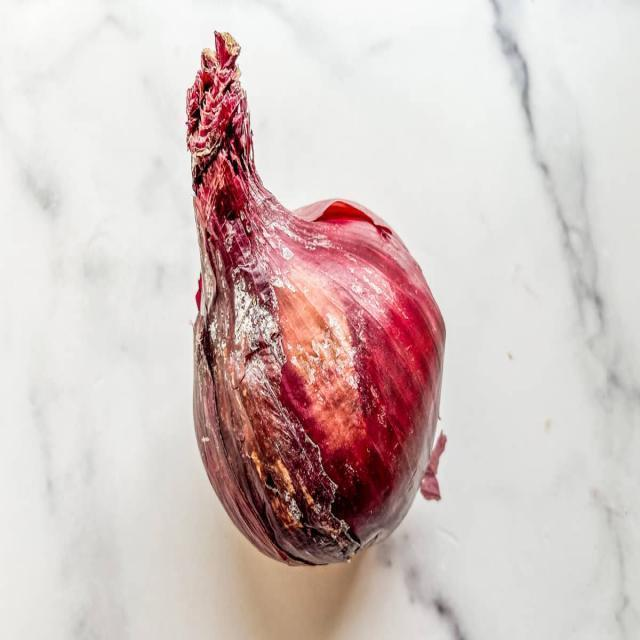Onion: (185, 29, 451, 572)
